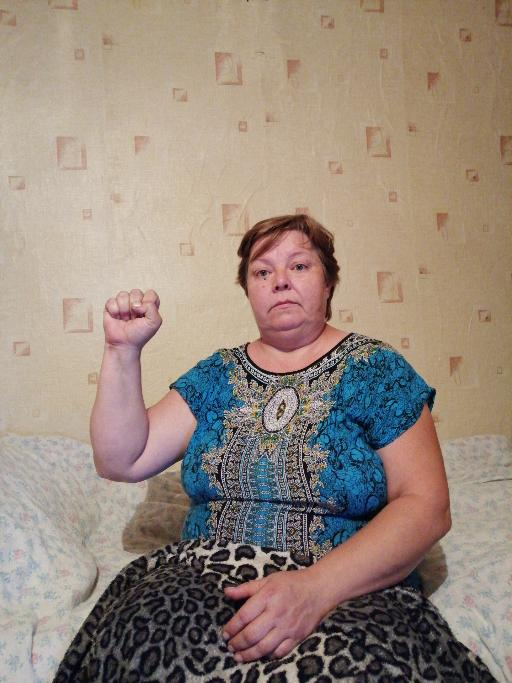fist: (101, 286, 163, 348)
no_gesture: (218, 568, 324, 662)
